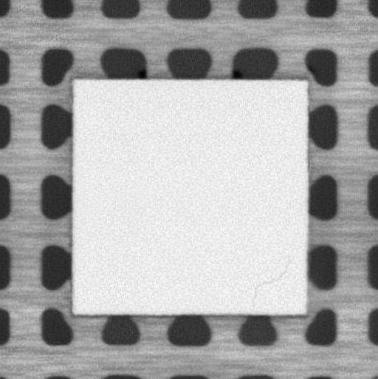DIE_CRACK: (250, 260, 293, 309)
